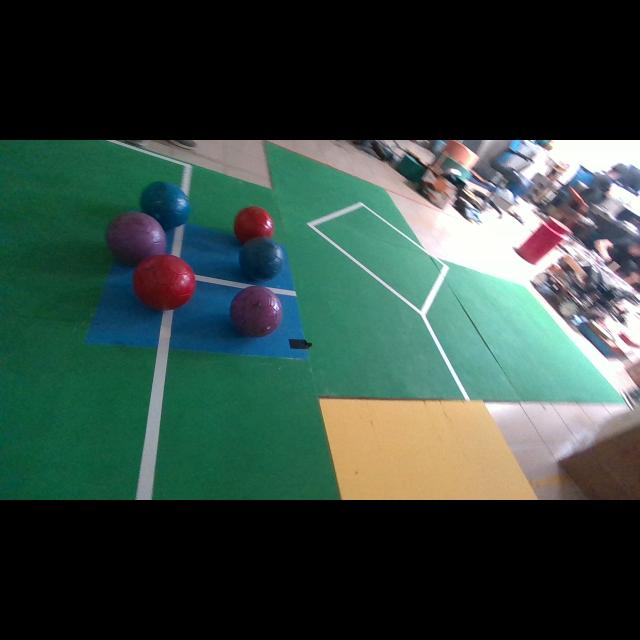B: (141, 181, 190, 229), (240, 238, 284, 281)
P: (106, 211, 166, 265), (230, 285, 282, 338)
R: (132, 254, 196, 311), (234, 206, 275, 244)
